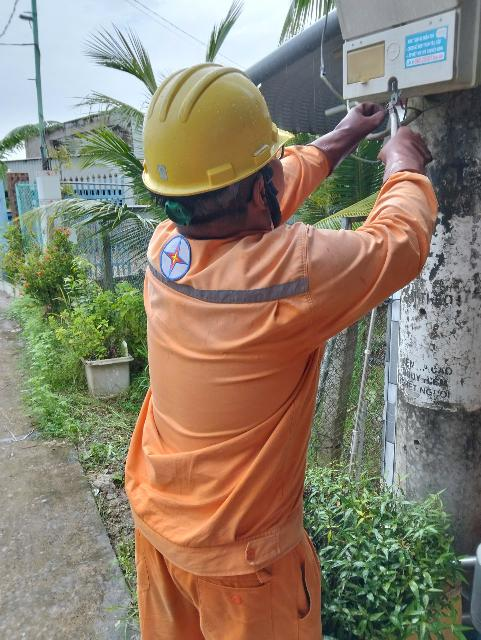gloves: (375, 120, 460, 201), (310, 92, 384, 183)
helmet: (128, 52, 288, 197)
